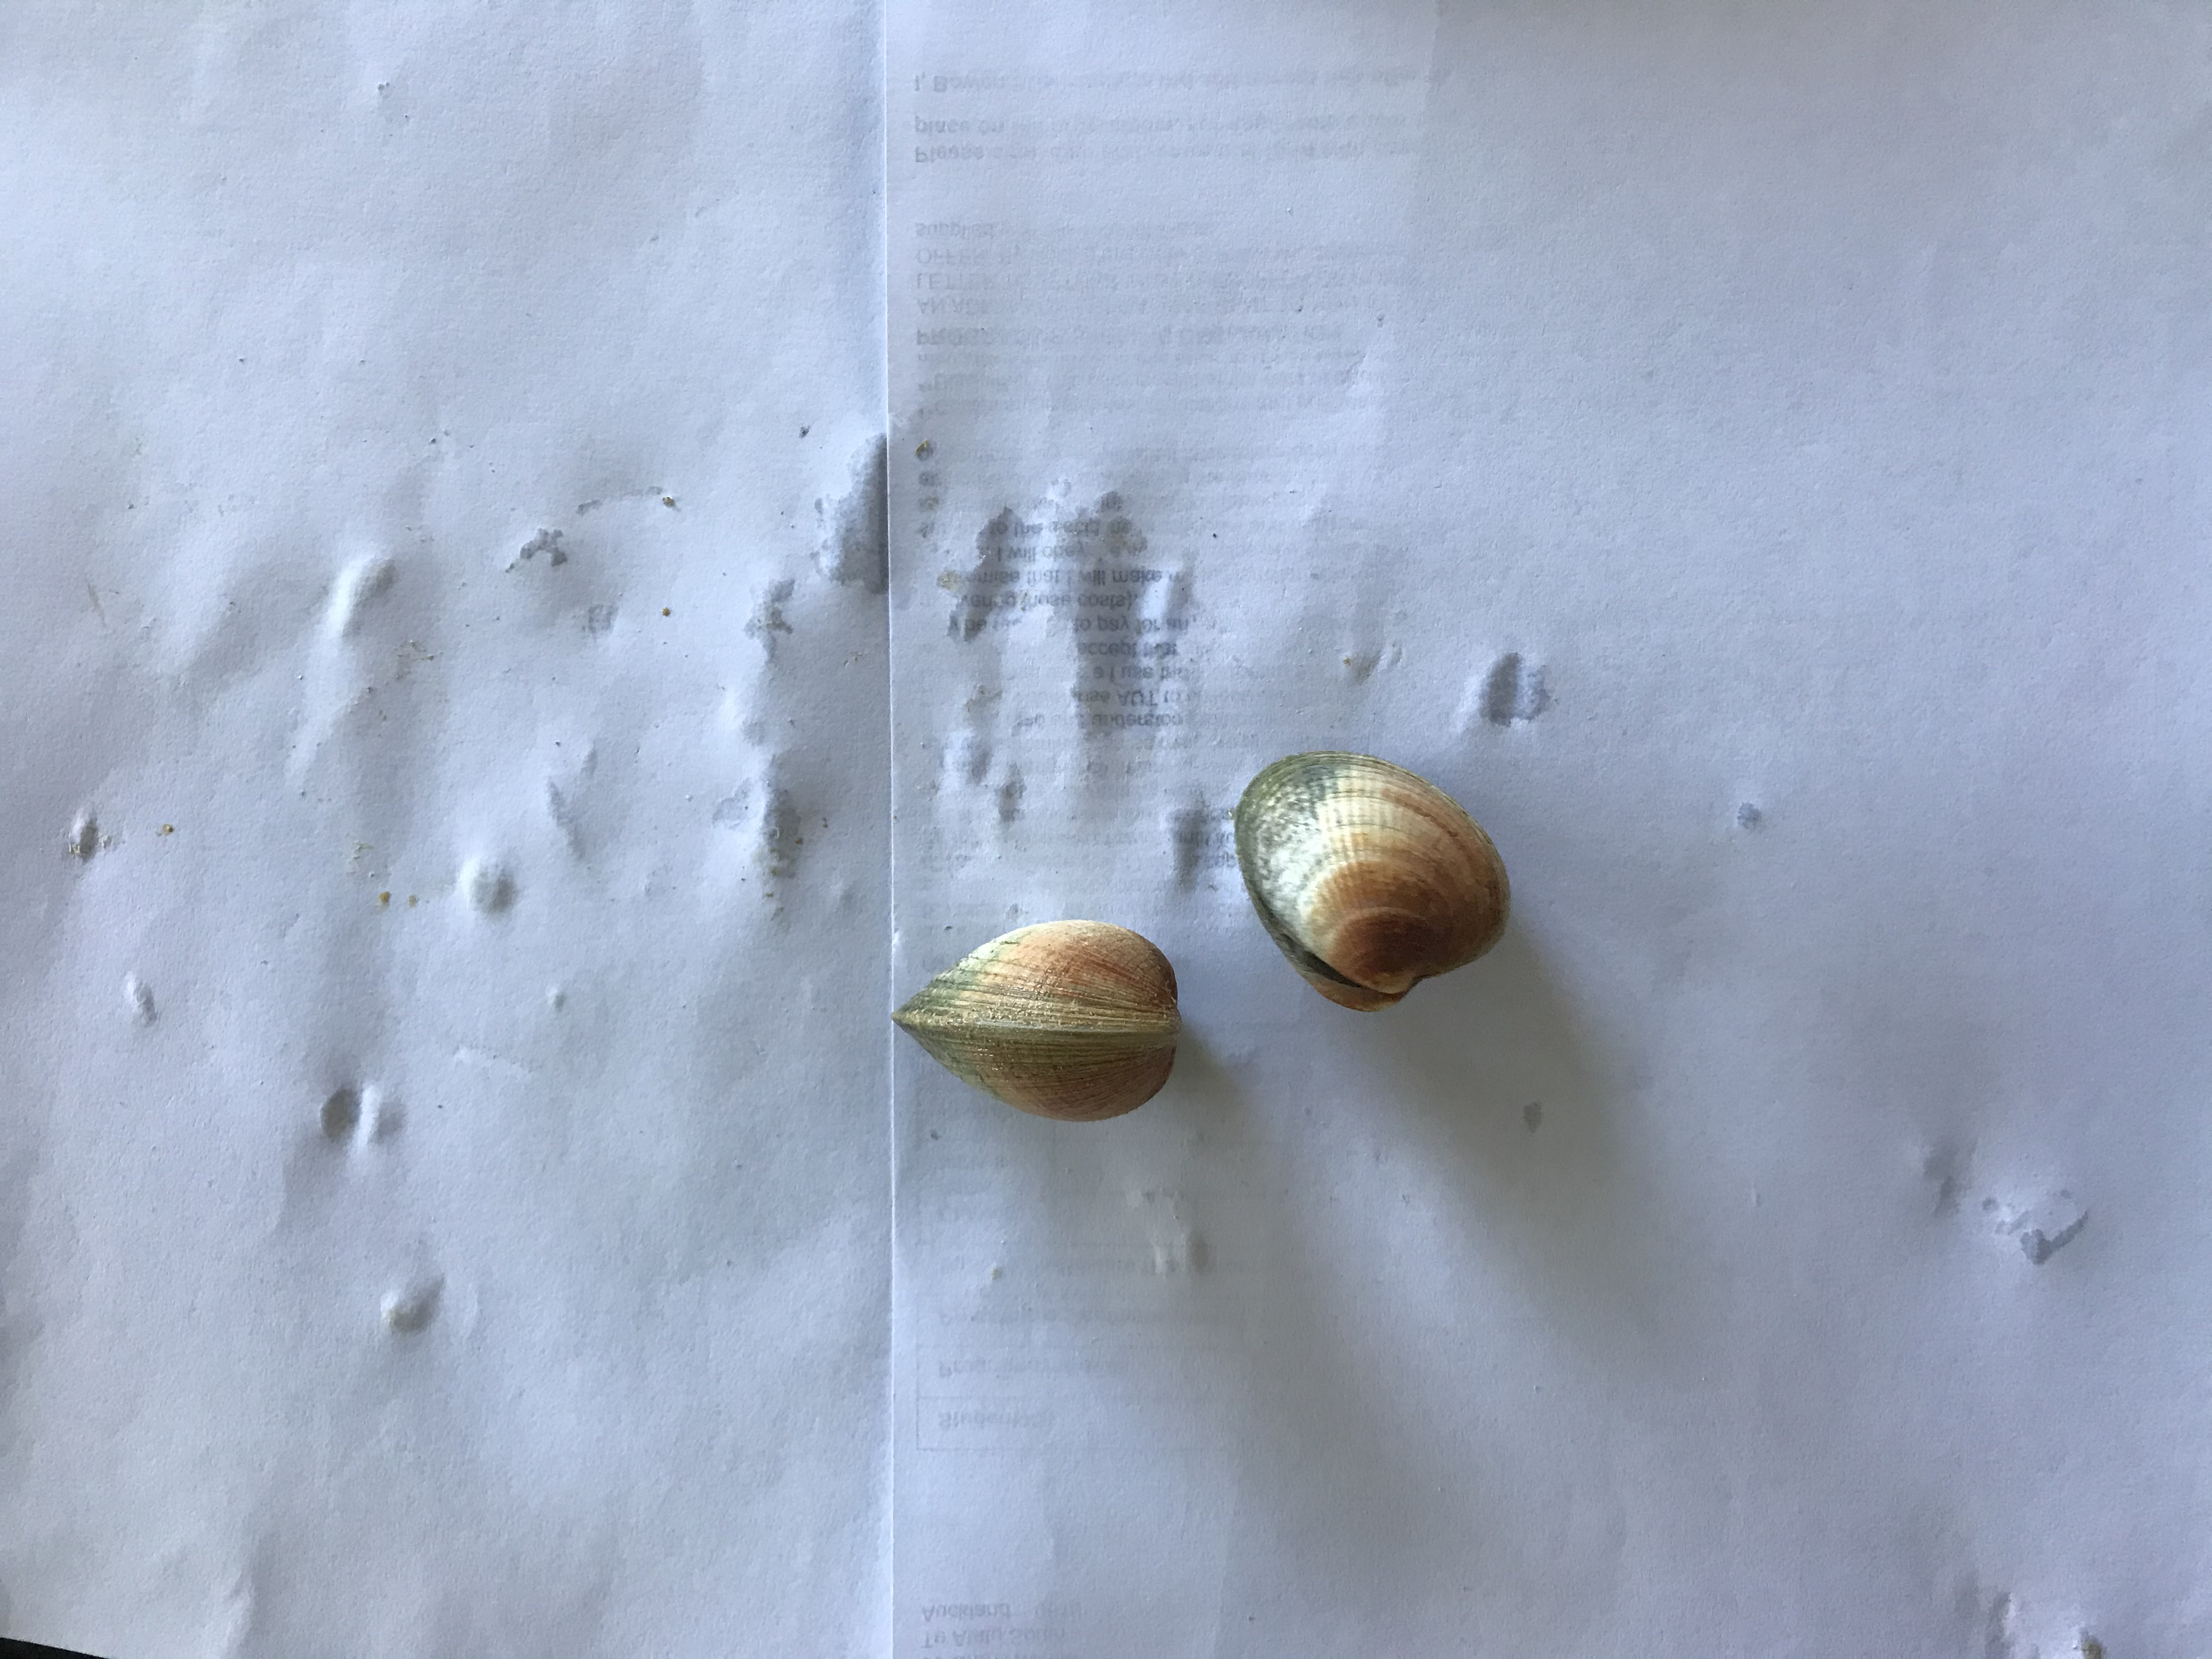cockle: (1228, 748, 1524, 1018), (883, 915, 1190, 1127)
